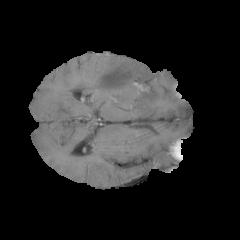glioma: (93, 56, 154, 105)
